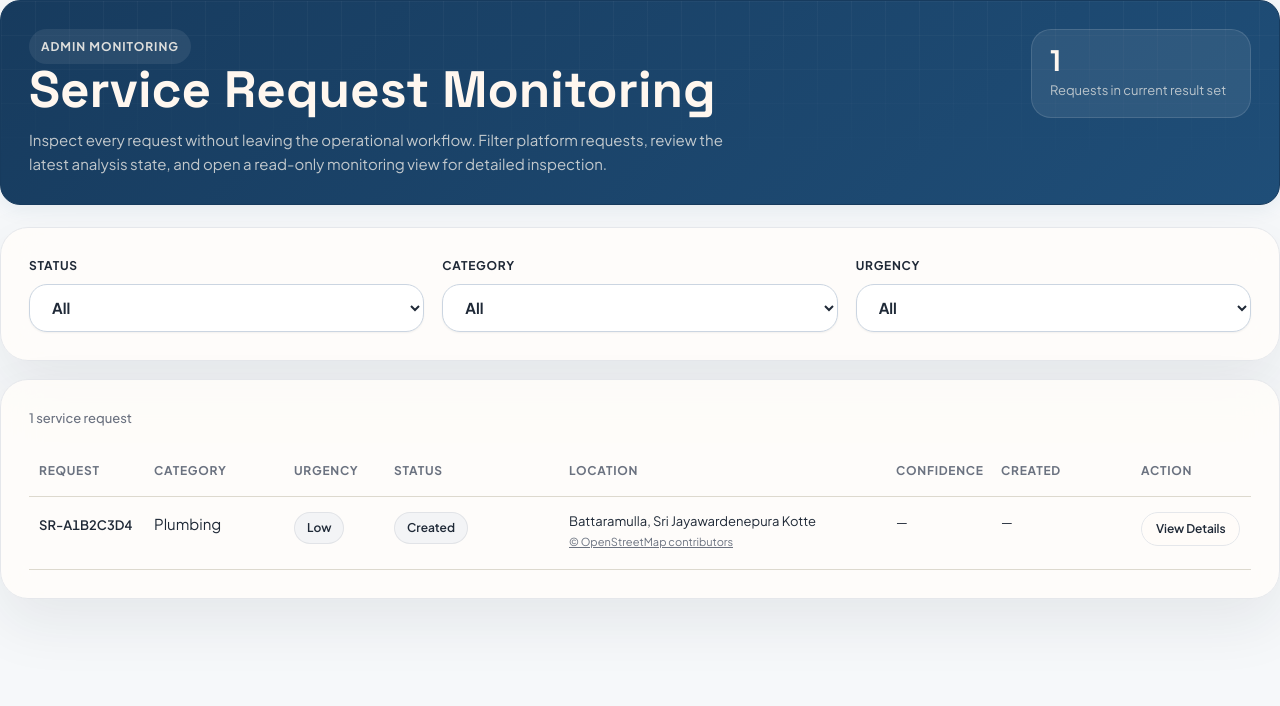
Scenario: Persisted Admin location presentation › attributes OSM content adjacent to the full address in list and details
Click the button "View Details".
click(1191, 529)  # box left=1141, top=512, right=1240, bottom=546
(page scrolled)
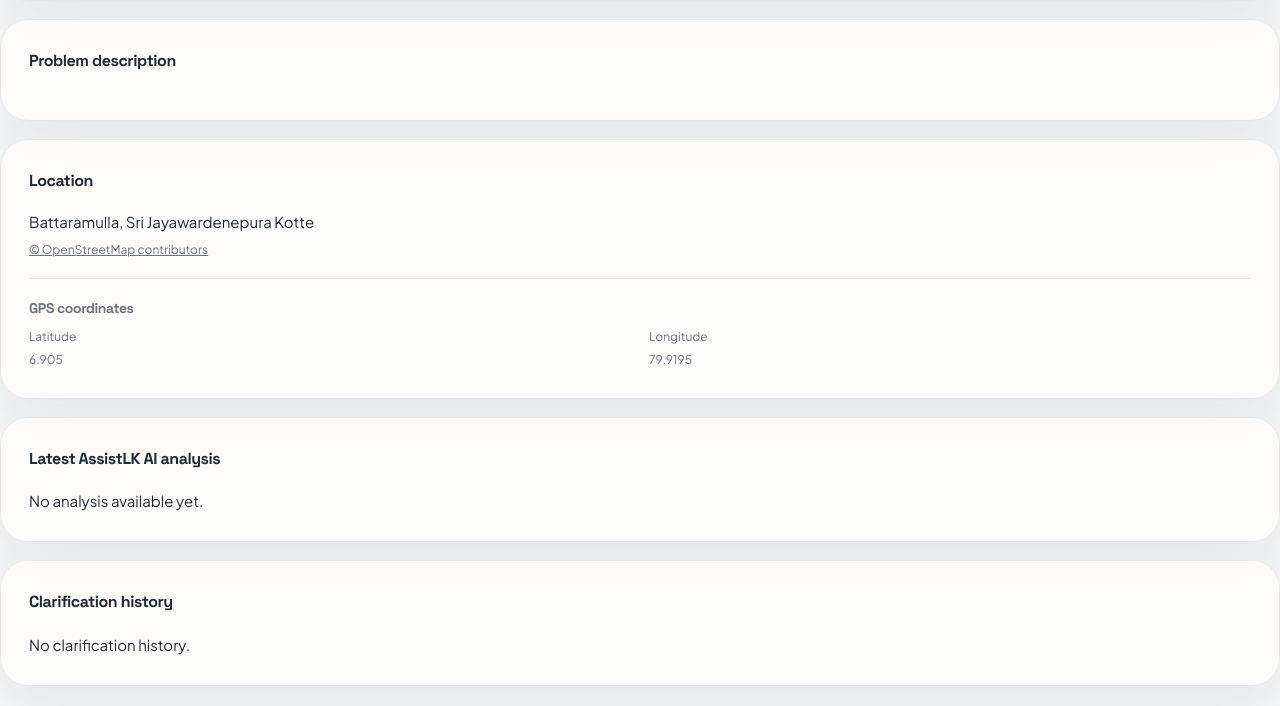
Expected: the heading "GPS coordinates" is shown, left=29, top=299, right=134, bottom=317
Expected: the text "6.905" is shown, left=29, top=352, right=63, bottom=368
Expected: the text "79.9195" is shown, left=649, top=352, right=692, bottom=368
